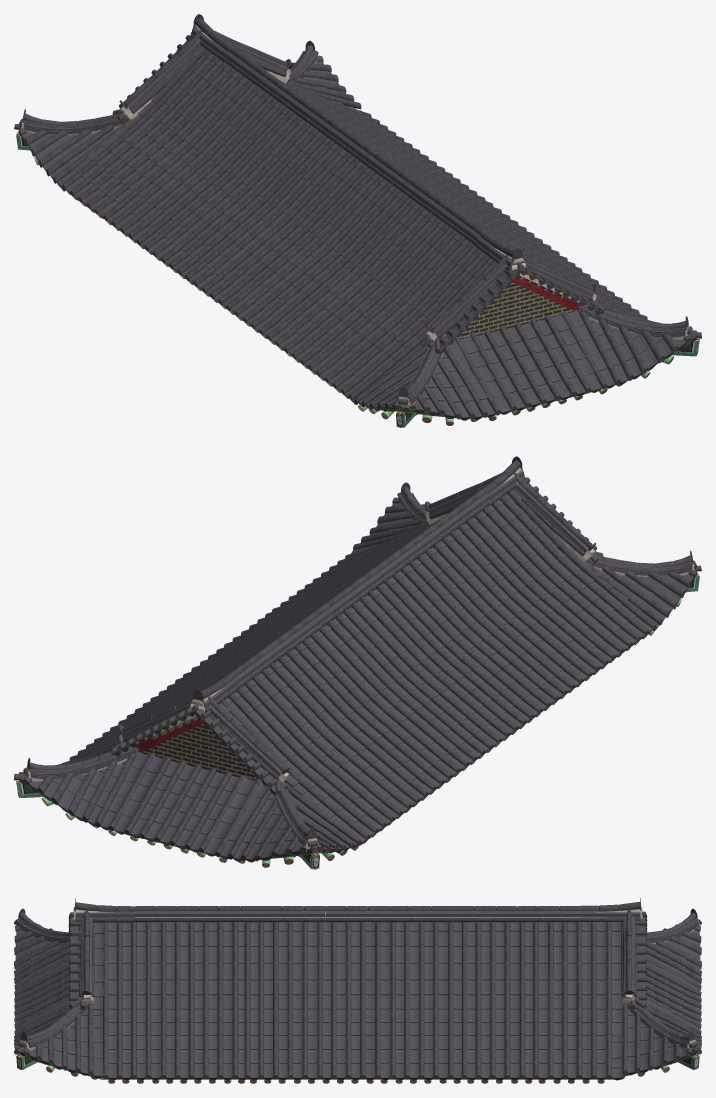
File: SM_R_Jibsacheong.fbx
3 renders of one model, top to bottom at view 1: azimuth 30°, elevation 25°; view 2: azimuth 150°, elevation 25°; view 3: azimuth 270°, elevation 25°, orthographic. The views are drawn at different scales.
Visible parts, largest first — view 1: SM_R_Jibsacheong; view 2: SM_R_Jibsacheong; view 3: SM_R_Jibsacheong.
Part boxes in pixels (x1=…): SM_R_Jibsacheong: x1=14, y1=14, x2=701, y2=427; SM_R_Jibsacheong: x1=14, y1=456, x2=701, y2=869; SM_R_Jibsacheong: x1=14, y1=898, x2=701, y2=1083.
Size of the model in its own units: 883 by 1932 by 399.
Materials: 8 (8 with a texture image).
